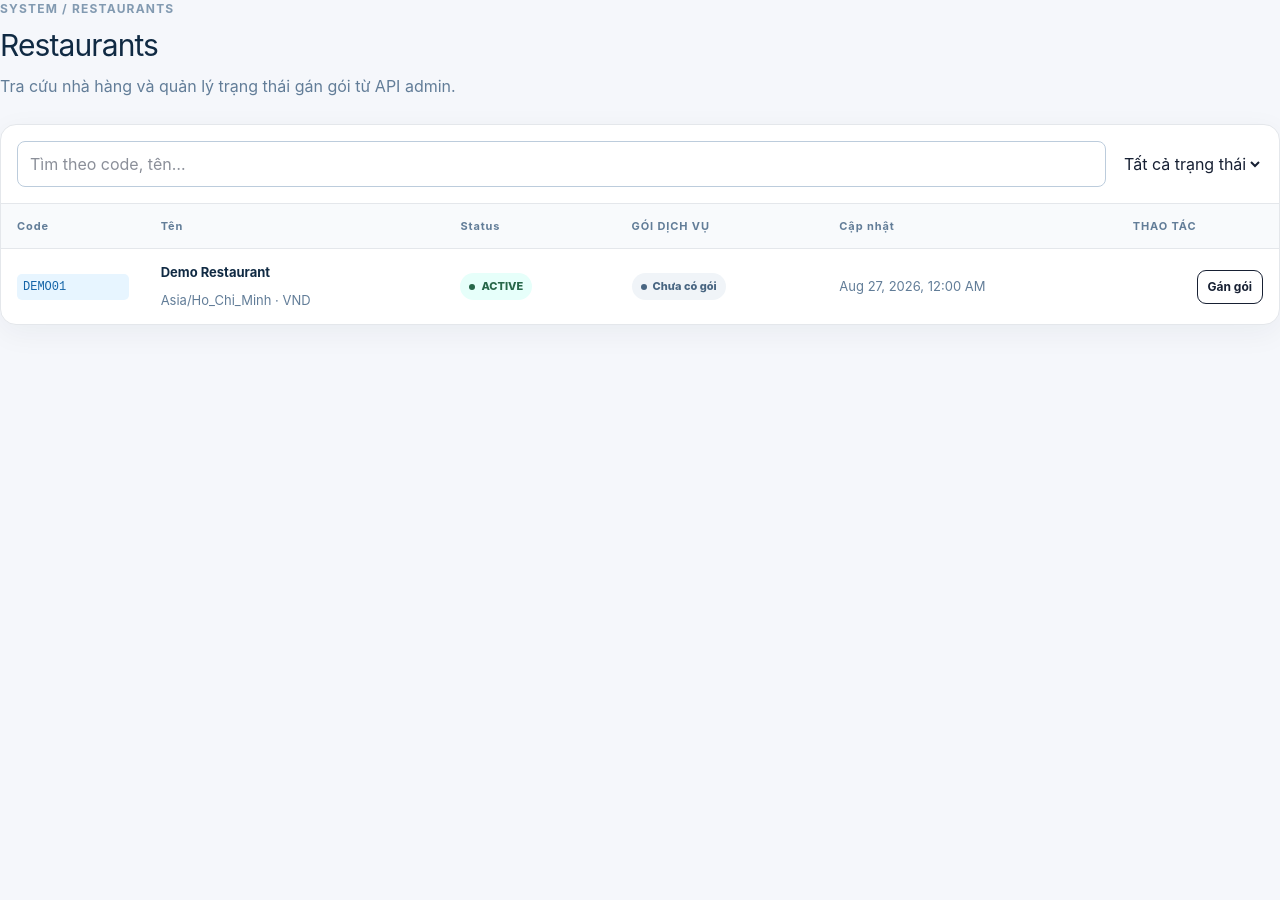
Test: restaurant package assignment actions › shows mapped HTTP 409 SUBSCRIPTION_PENDING_EXISTS, refetches, and never shows success
Step 1. Click the button "Gán gói" → (1230, 287), box top-left (1196, 270), bottom-right (1263, 304)
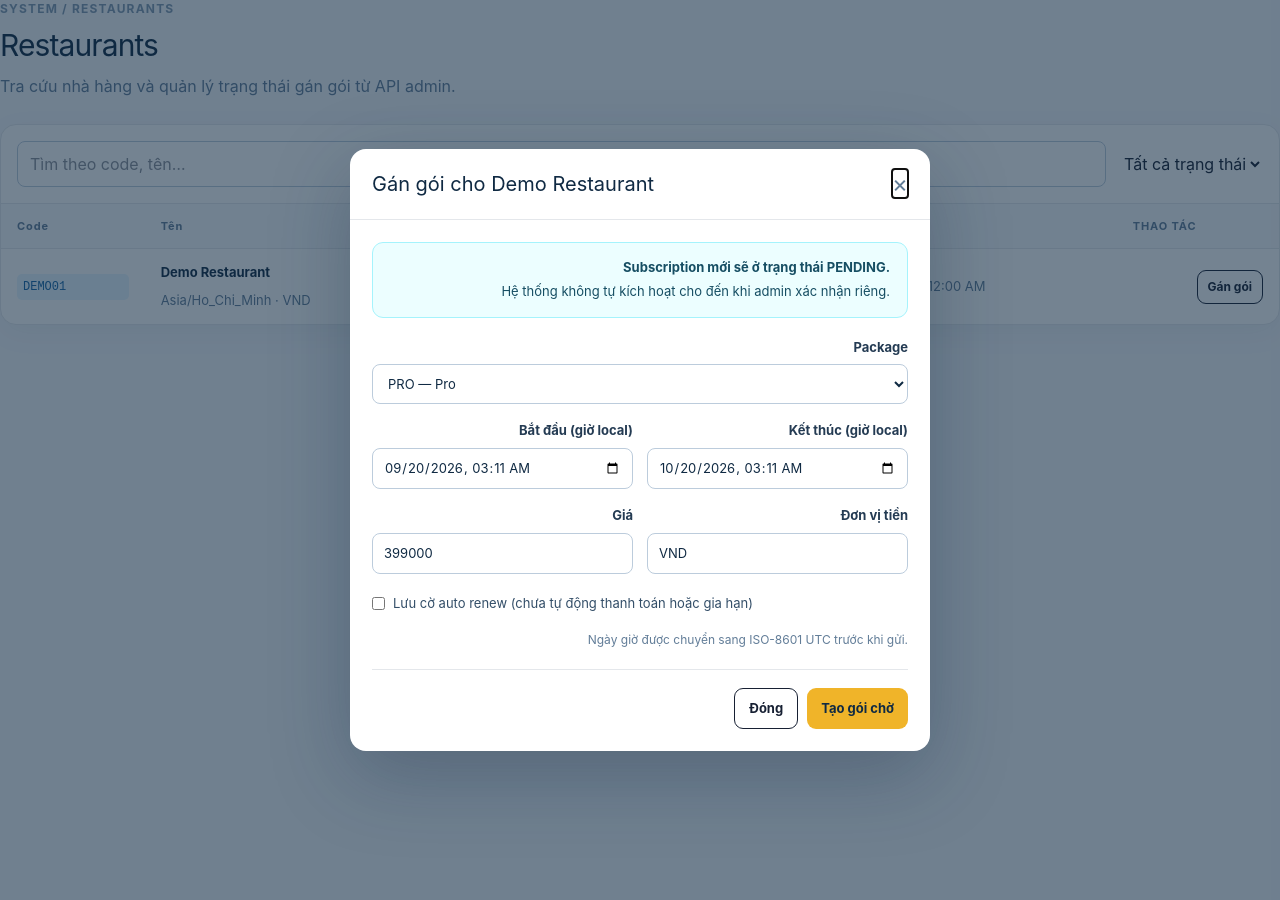
Step 2. Click the button "Tạo gói chờ" → (858, 709), box top-left (807, 688), bottom-right (908, 729)
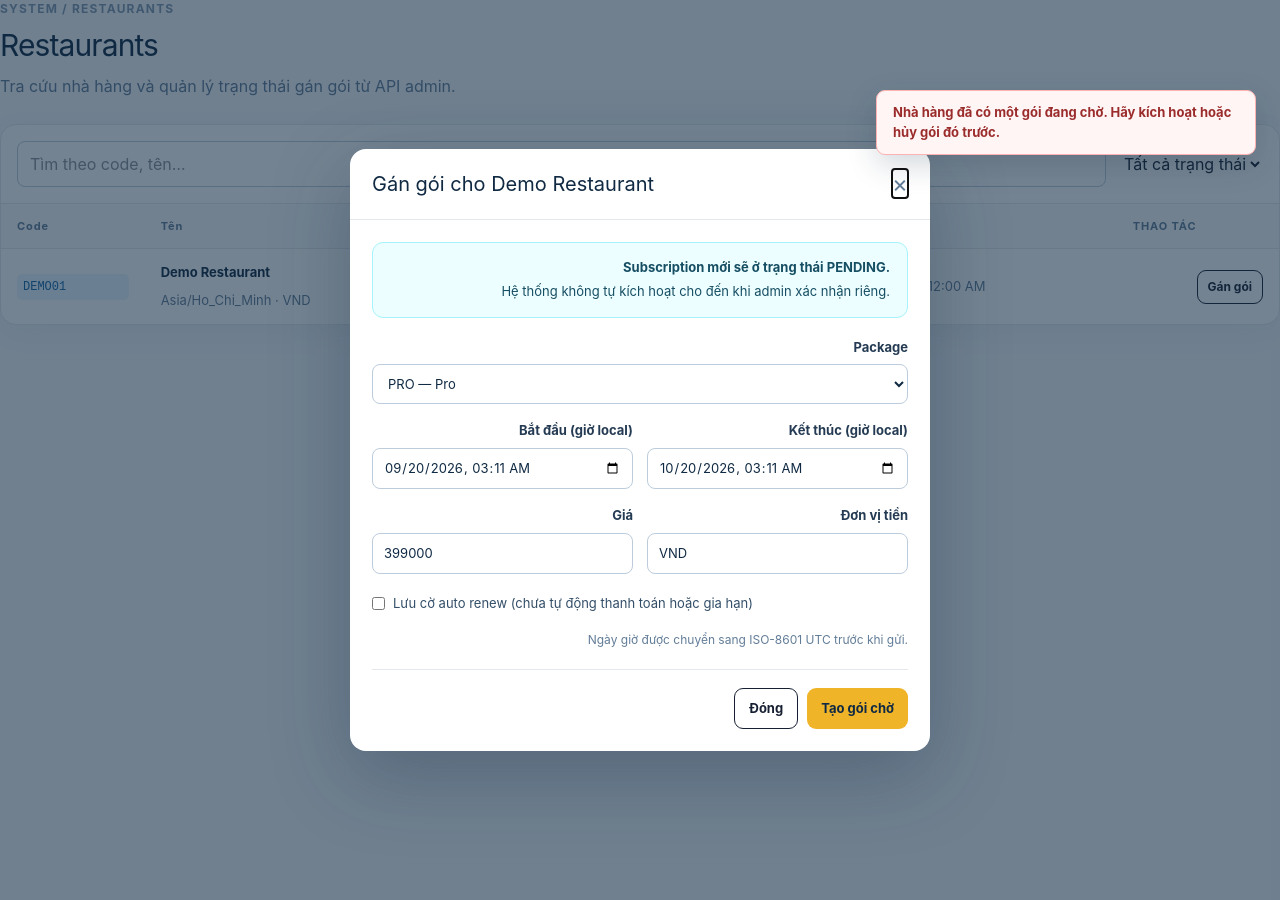
Expected: the message reads "Nhà hàng đã có một gói đang chờ. Hãy kích hoạt hoặc hủy gói đó trước.", top-left (893, 104), bottom-right (1231, 140)
